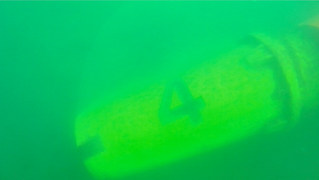4: (162, 80, 203, 124)
leak: (295, 20, 319, 33)
pipe: (74, 23, 319, 180)
